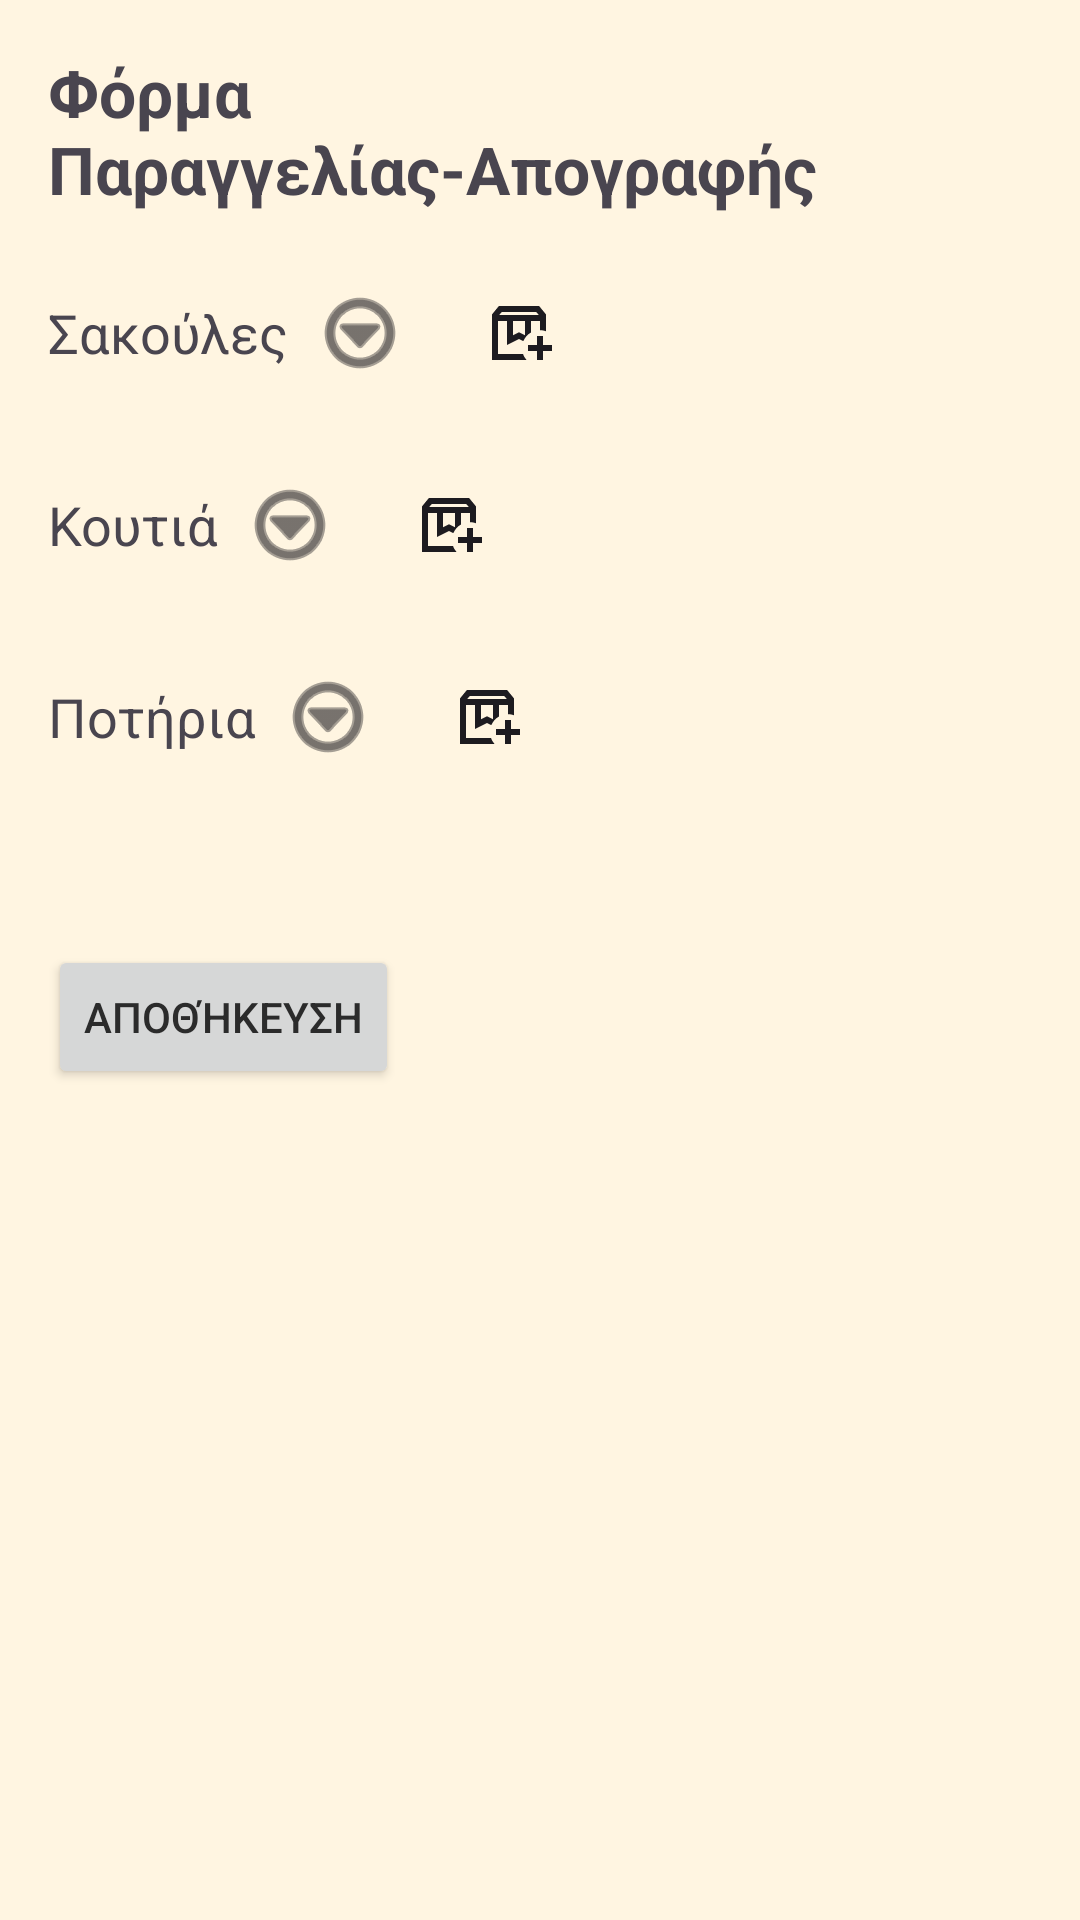

Named icons in this screenshot (1080x1920) and their centers, (x,y):
box add: (522,333), (452,525), (490,717)
Show Products: (360,333), (290,525), (328,717)
